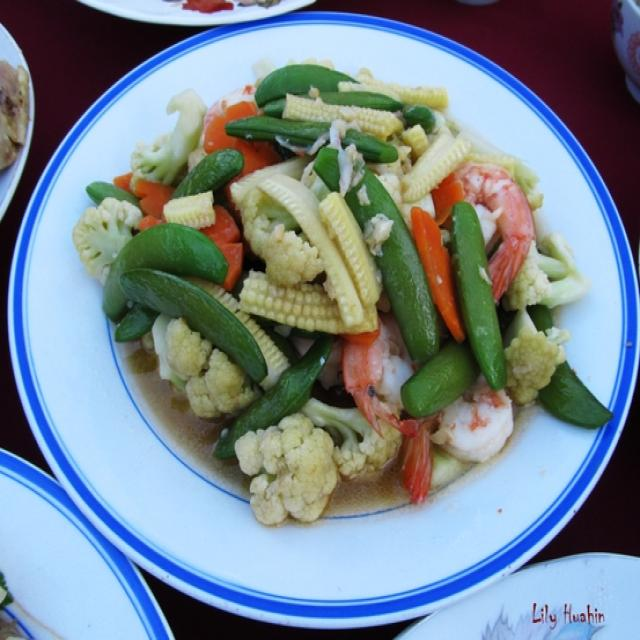蔬菜料理: (15, 21, 632, 608)
